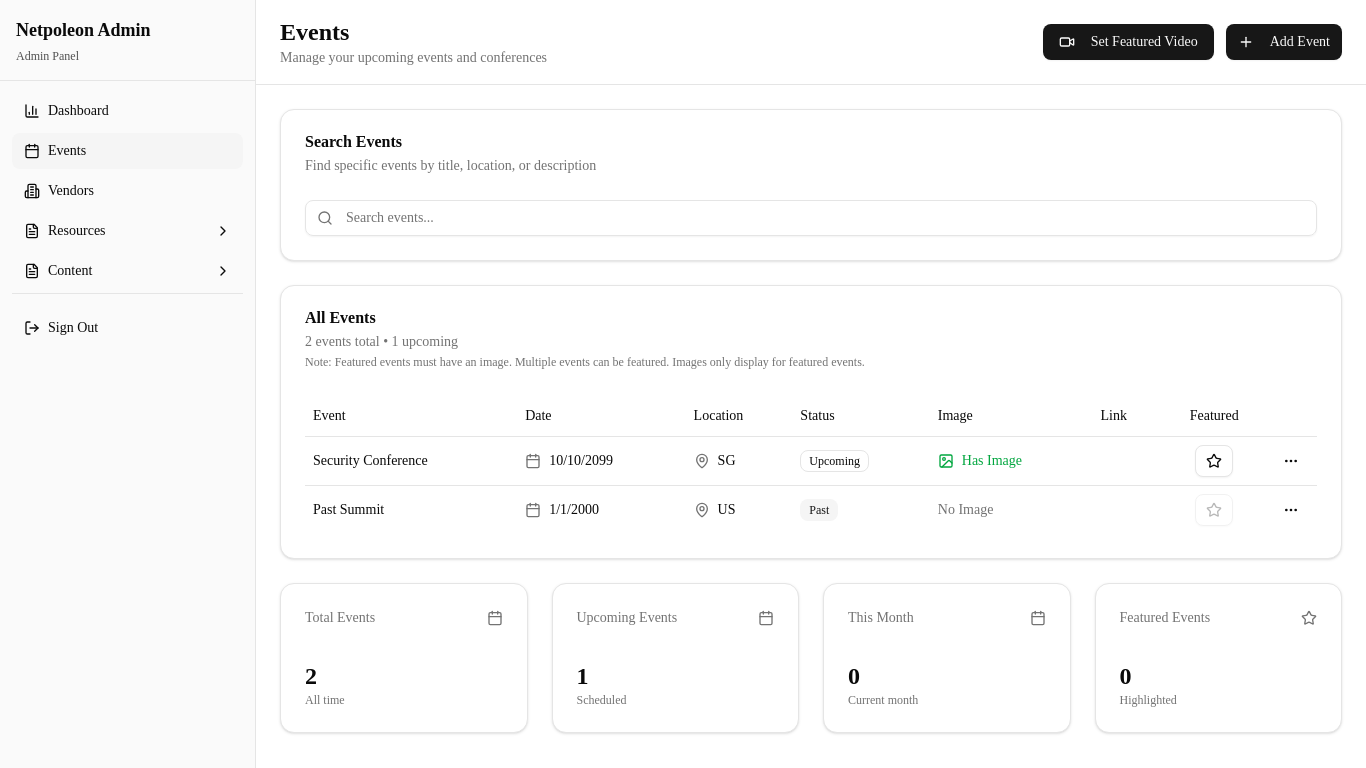
Test case: Admin Events Page › opens Add Event dialog via header button
The width and height of the screenshot is (1366, 768).
Expected: the text "All Events" is shown, [305, 309, 376, 326]
Click the button "Add Event". click: (1284, 42)
box: [1226, 24, 1342, 60]
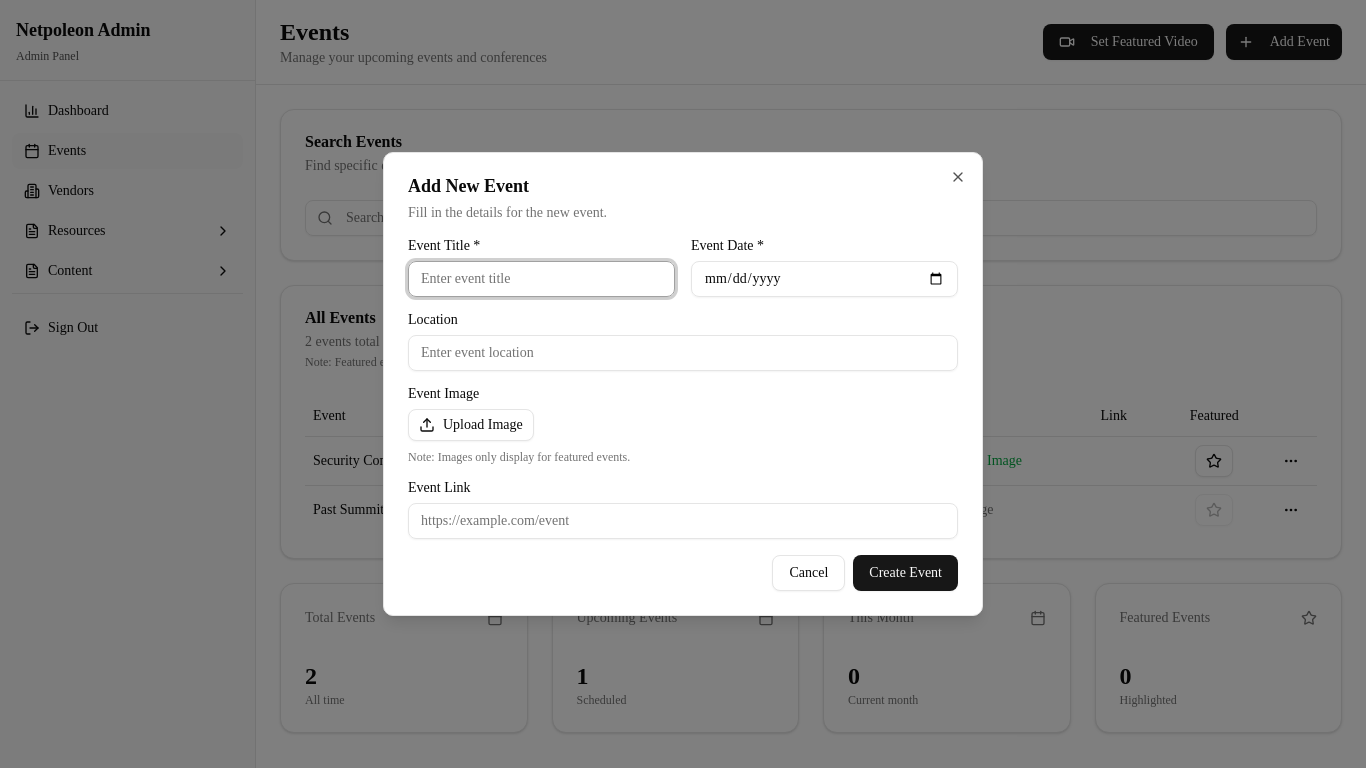
Now the heading "Add New Event" is shown, box [408, 176, 529, 196]
